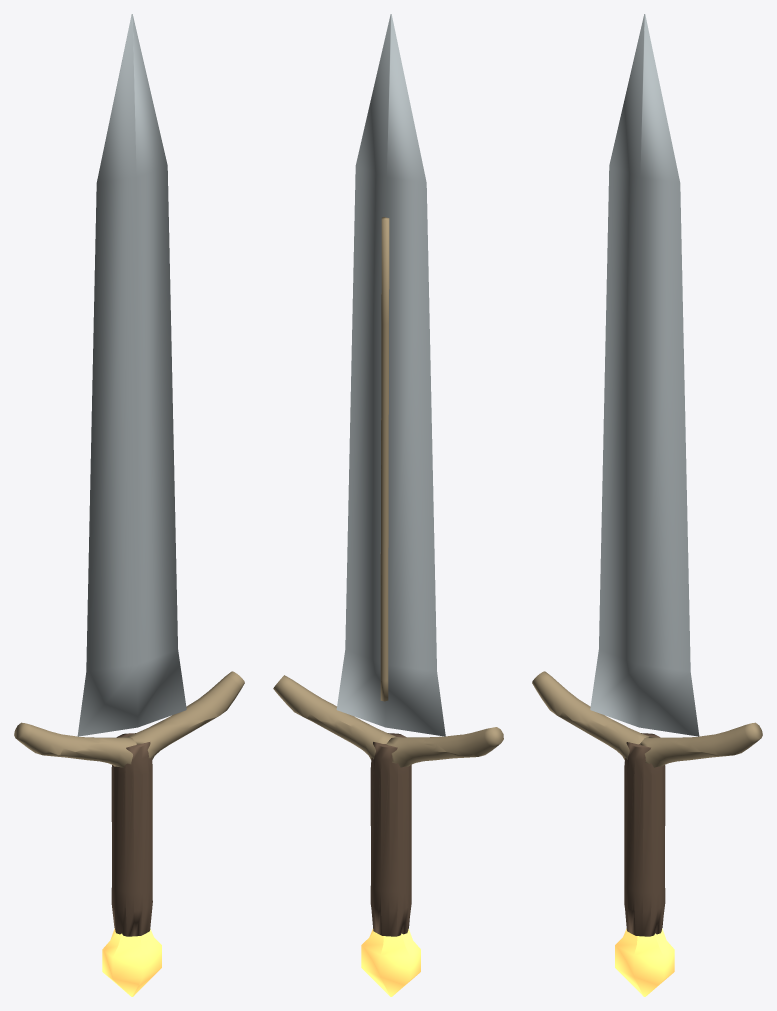
The model's file is elite-fitted.glb.
3 renders of one model, left to right at view 1: azimuth 30°, elevation 25°; view 2: azimuth 150°, elevation 25°; view 3: azimuth 330°, elevation 25°, orthographic.
Parts seen in each view (by area): view 1: Weapon__silver, Weapon__leather, Weapon__gold, Weapon__ember; view 2: Weapon__silver, Weapon__gold, Weapon__leather, Weapon__ember; view 3: Weapon__silver, Weapon__leather, Weapon__gold, Weapon__ember.
Boxes of the visible parts, x1,y1,x2,y2 form: Weapon__silver: [77, 14, 186, 736]; Weapon__leather: [111, 733, 152, 936]; Weapon__gold: [14, 671, 244, 767]; Weapon__ember: [102, 928, 161, 996]; Weapon__silver: [336, 14, 445, 736]; Weapon__gold: [273, 217, 503, 767]; Weapon__leather: [370, 733, 411, 936]; Weapon__ember: [361, 929, 420, 996]; Weapon__silver: [590, 14, 699, 736]; Weapon__leather: [624, 733, 665, 936]; Weapon__gold: [532, 671, 762, 767]; Weapon__ember: [615, 928, 674, 996].
Bounding box in the file's own units: 0.416 × 1.72 × 0.0676.
